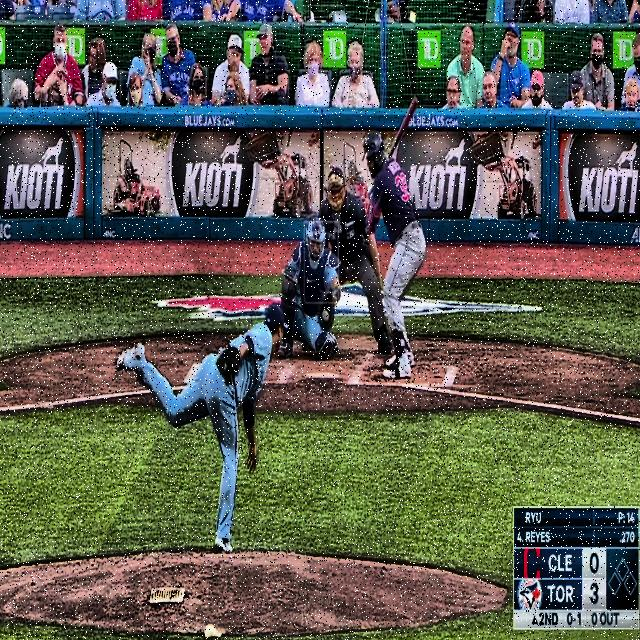baseball: (322, 308, 331, 323)
